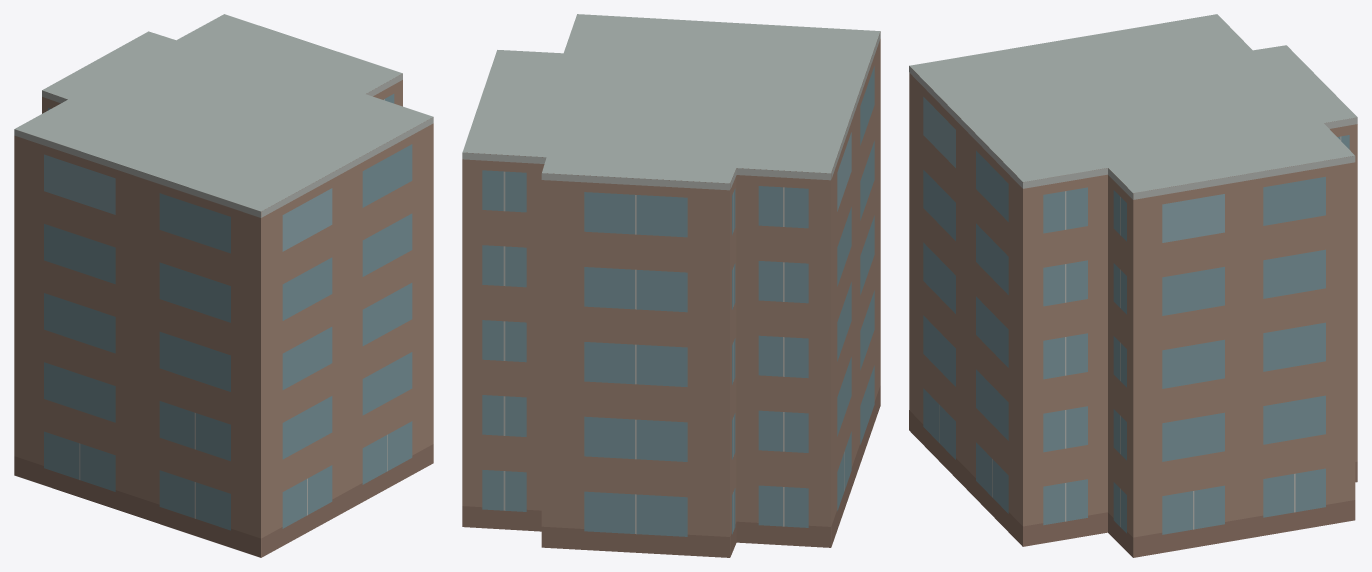
File: survey-upis-32982595.glb
3 views of the same model, side by side, from view 1: azimuth 30°, elevation 25°; view 2: azimuth 150°, elevation 25°; view 3: azimuth 270°, elevation 25° (orthographic). The views are drawn at different scales.
Parts seen in each view (by area): view 1: survey-upis-32982595.tmp; view 2: survey-upis-32982595.tmp; view 3: survey-upis-32982595.tmp.
Part boxes in pixels (x1=…): survey-upis-32982595.tmp: x1=14, y1=14, x2=433, y2=557; survey-upis-32982595.tmp: x1=462, y1=14, x2=880, y2=557; survey-upis-32982595.tmp: x1=909, y1=14, x2=1357, y2=557.
Bounding box in the file's own units: 13.92 × 13.2 × 14.72.
